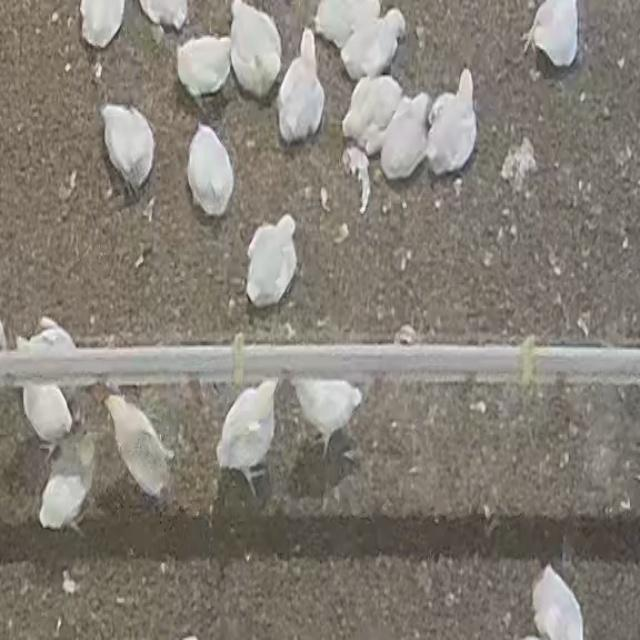chicken: (213, 377, 284, 501)
